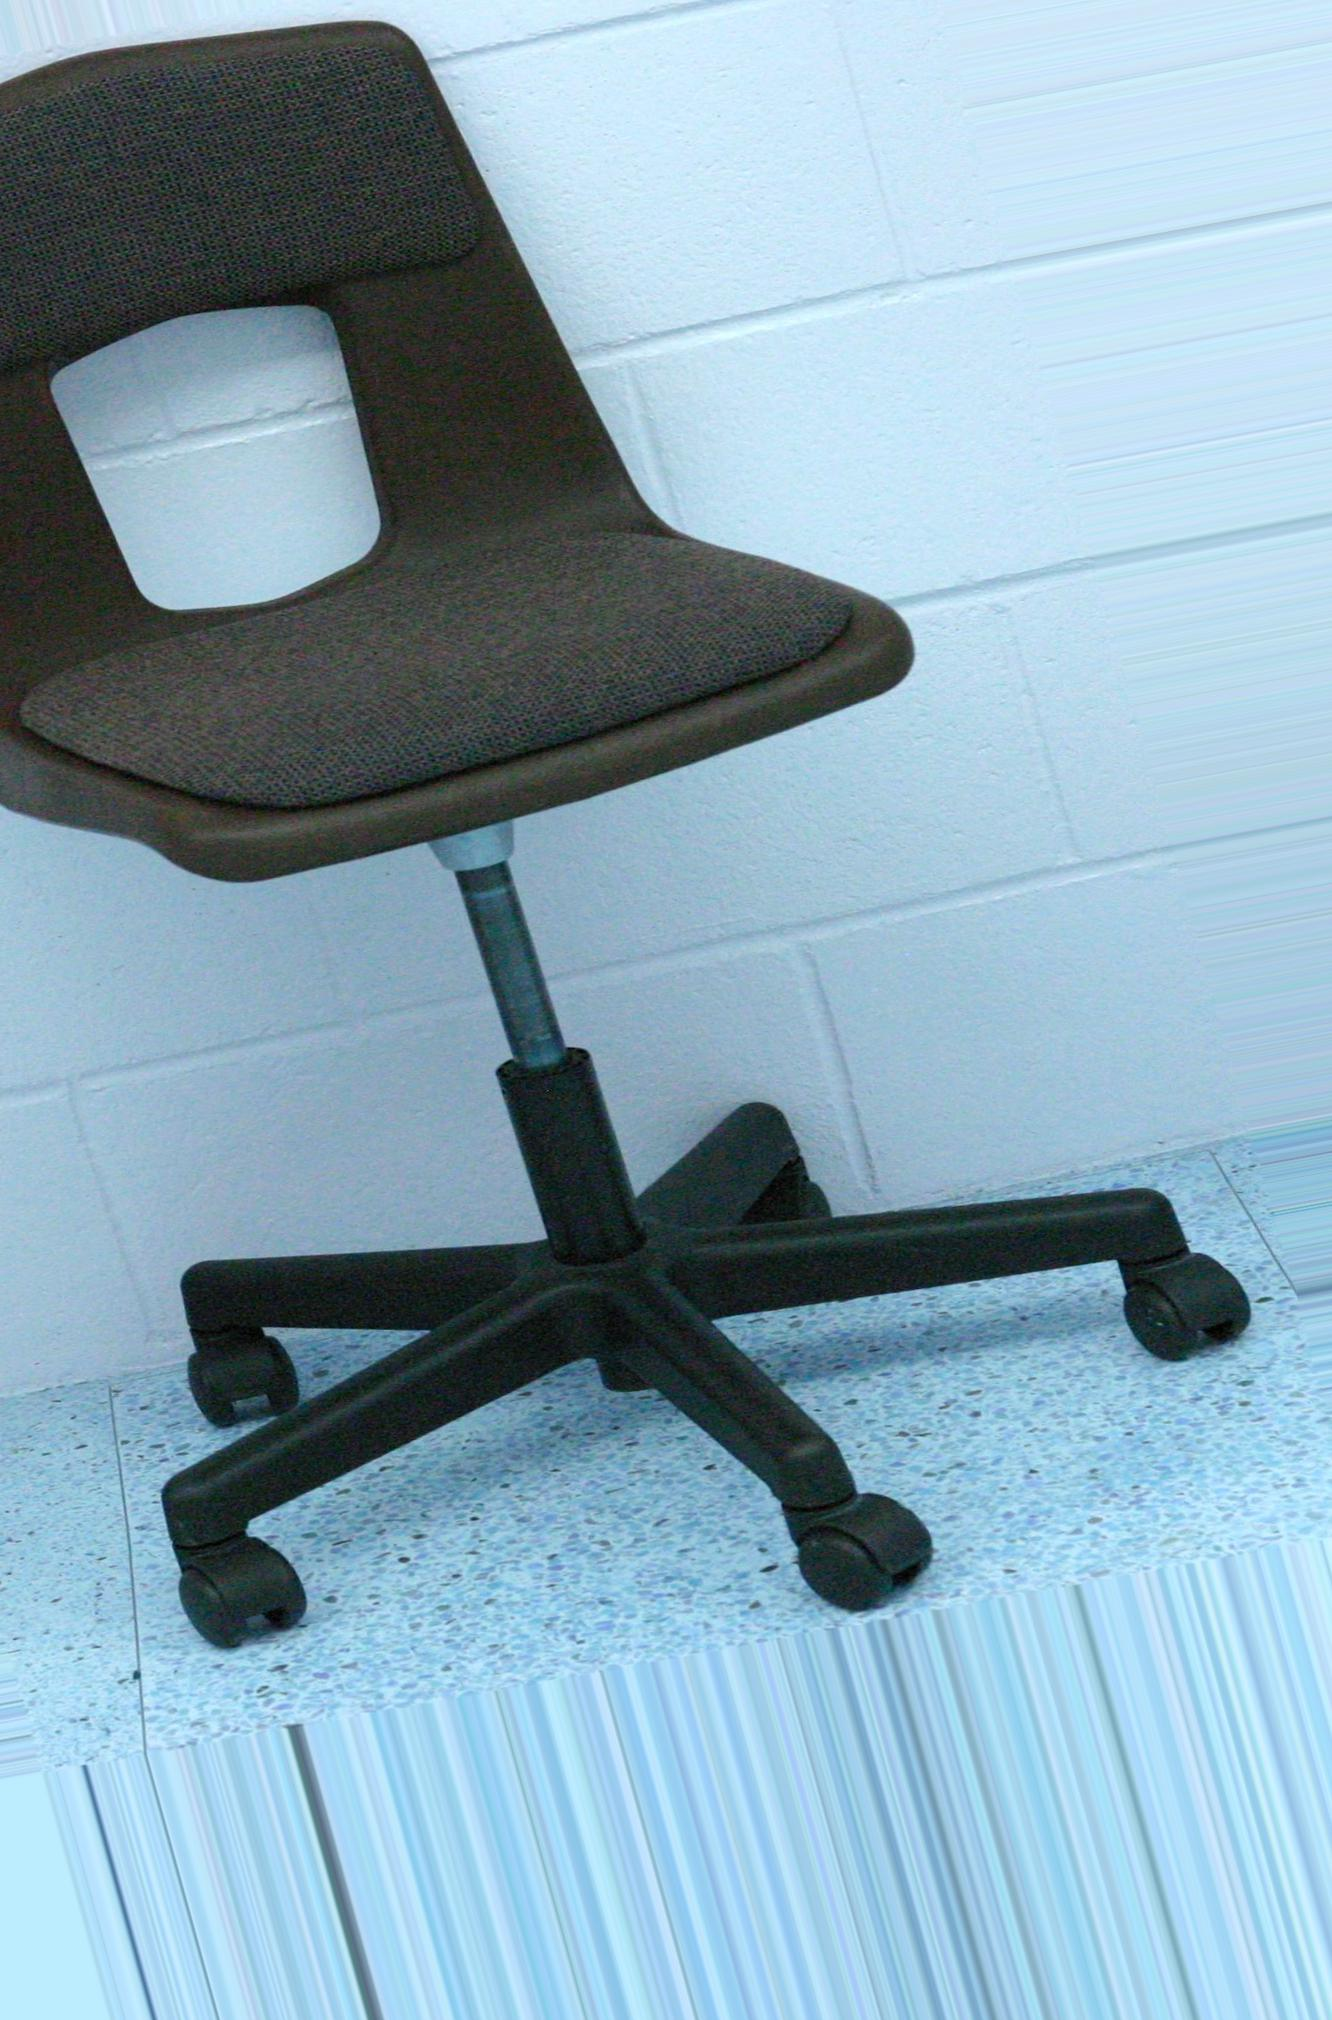chair: (1, 16, 1253, 1644)
